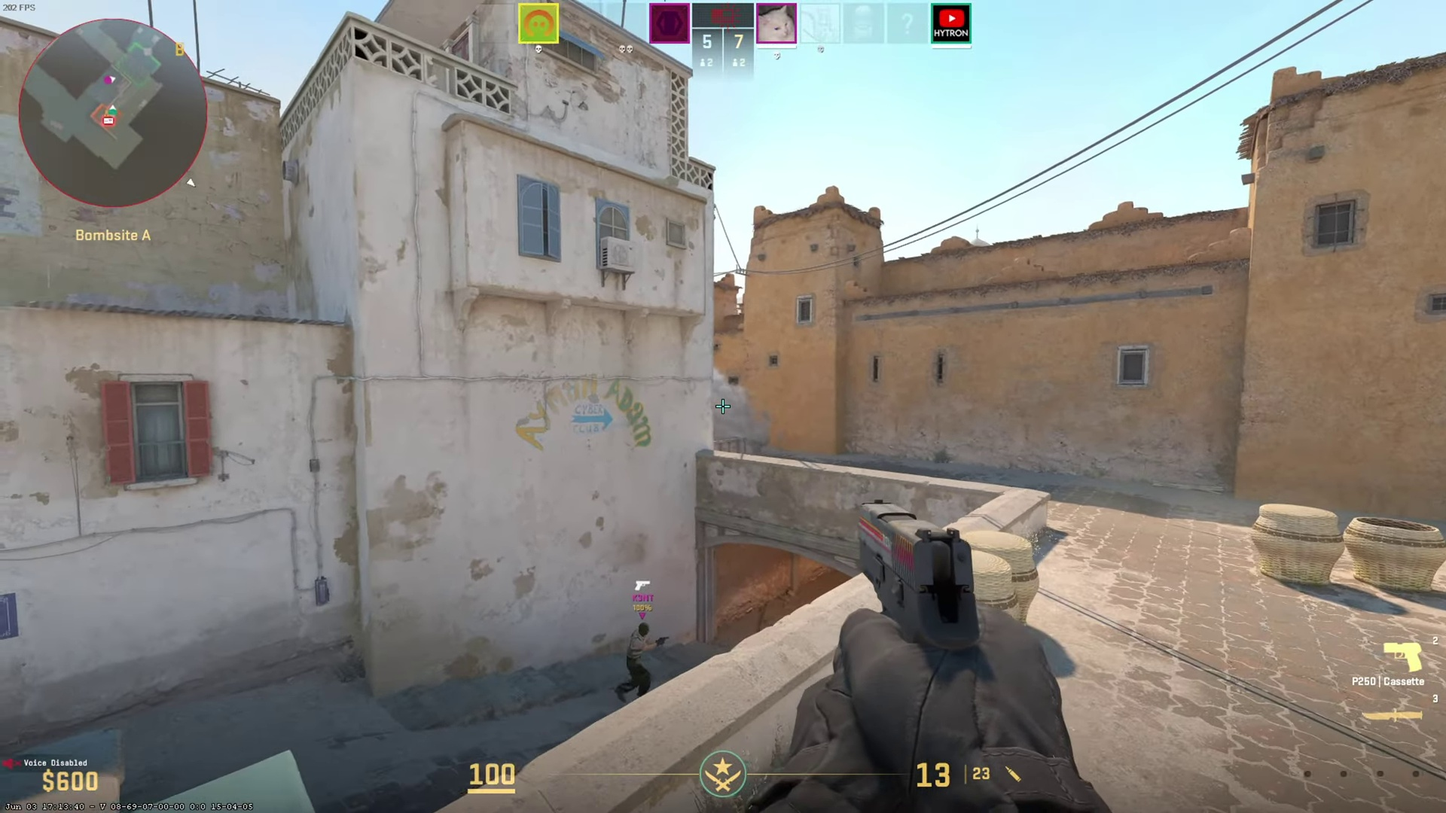Terrorist: (614, 622, 659, 704)
